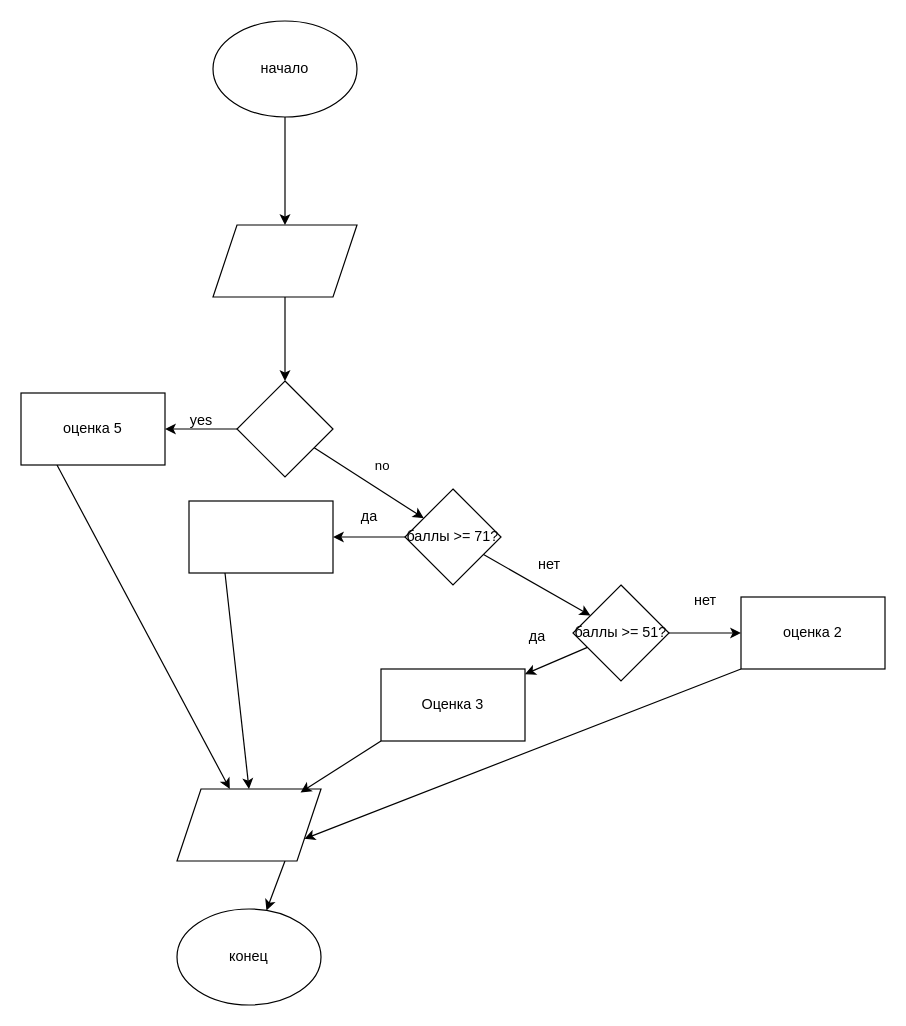
The diagram is 906 pixels wide and 1026 high, and some of its shapes have lost their labels. The centre of each missing label's shape, as x and y in pixels:
баллы >= 91?: point (284, 428)
ввод: баллы: point (284, 260)
вывод баллов: point (248, 824)
оценка 4: point (260, 536)
